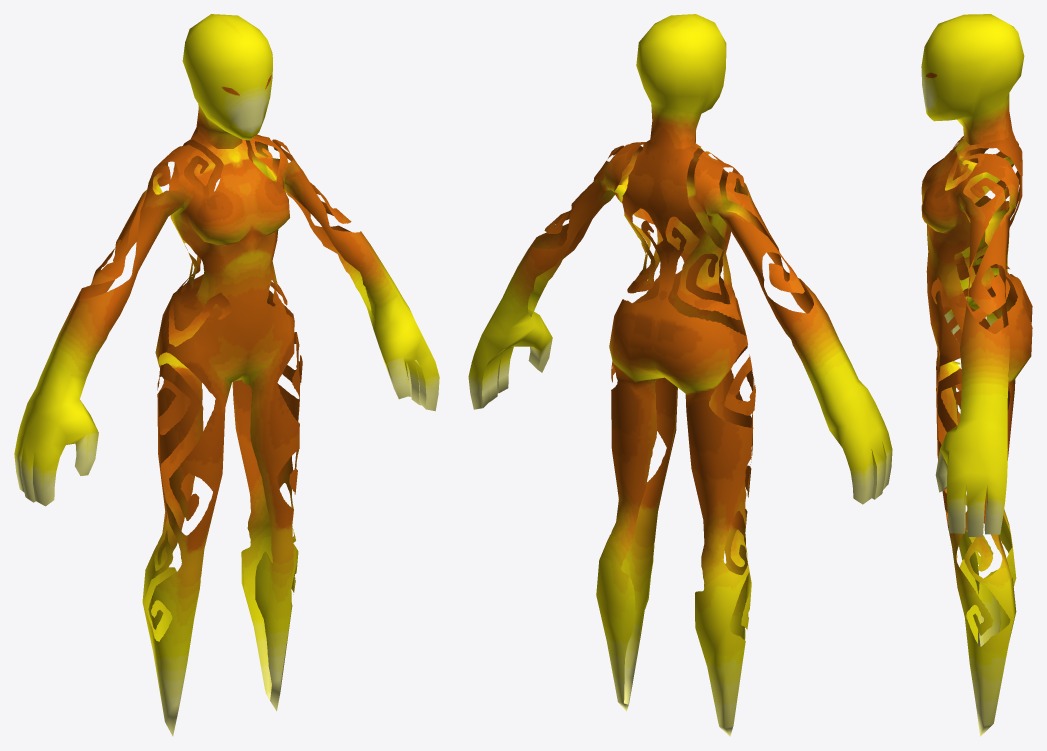
The model's file is elemental_fire_7aa03567.glb.
The picture shows the model from 3 angles, left to right: view 1: azimuth 30°, elevation 25°; view 2: azimuth 150°, elevation 25°; view 3: azimuth 270°, elevation 25°; orthographic projection.
Bounding box in the file's own units: 1.45 × 2.43 × 0.3531.
Materials: 1 (1 with a texture image).
